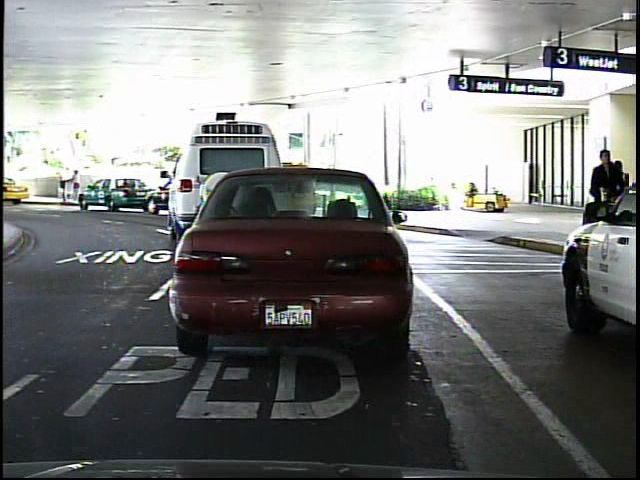person: (585, 143, 627, 253), (69, 165, 84, 199), (66, 161, 69, 200)
